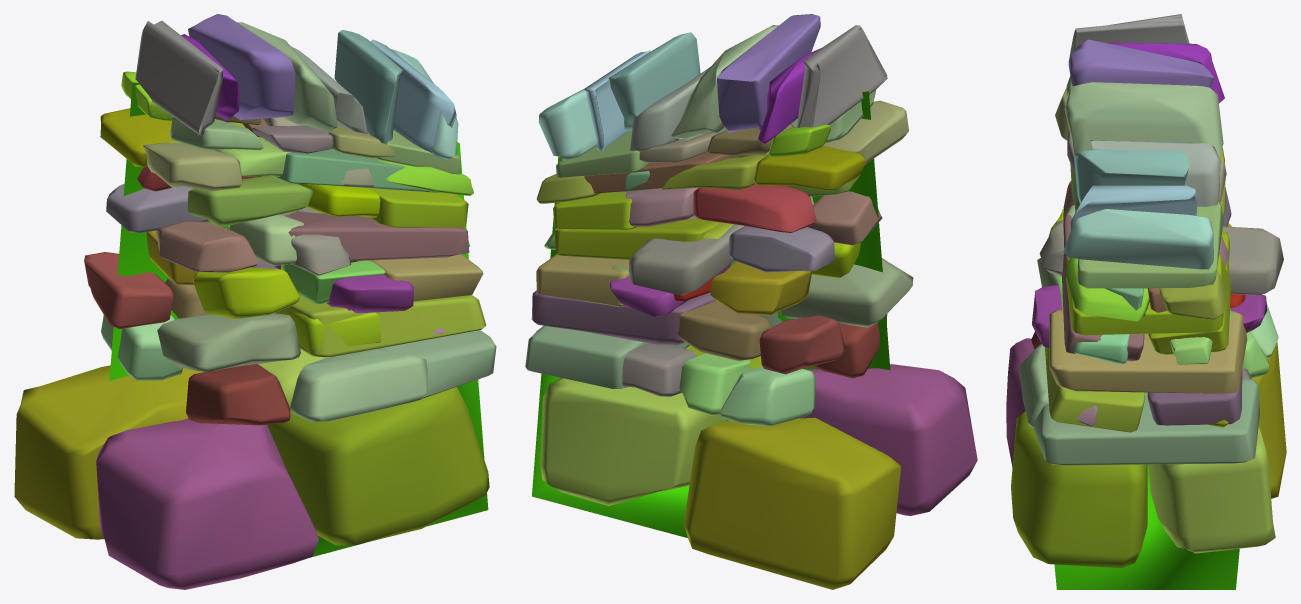
Rendered from SM_Prop_wall_end_3.glb.
3 views of the same model, side by side, from view 1: azimuth 30°, elevation 25°; view 2: azimuth 150°, elevation 25°; view 3: azimuth 270°, elevation 25° (orthographic). The views are drawn at different scales.
Parts seen in each view (by area): view 1: SM_Prop_wall_end_3; view 2: SM_Prop_wall_end_3; view 3: SM_Prop_wall_end_3.
Part boxes in pixels (x1,y1,x2,y2): SM_Prop_wall_end_3: [14, 14, 496, 589]; SM_Prop_wall_end_3: [525, 14, 977, 589]; SM_Prop_wall_end_3: [1006, 14, 1286, 589].
Size of the model in its own units: 1.25 by 1.65 by 0.913.
